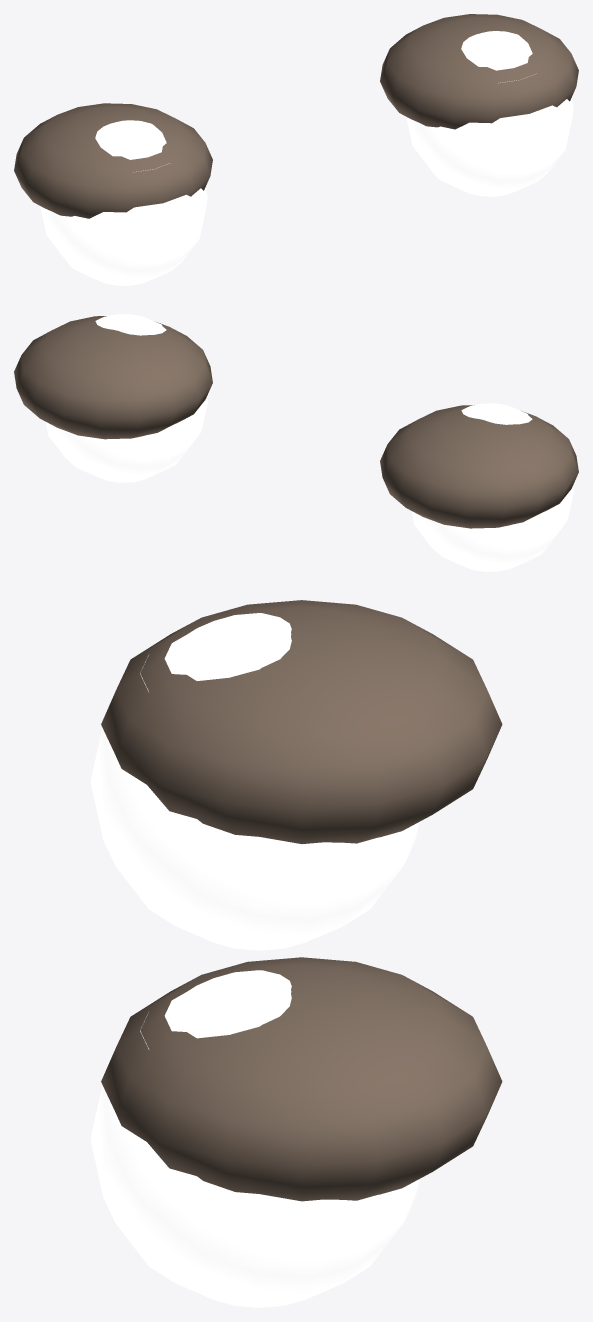
File: old-eyes.glb
3 views of the same model, one above another, from view 1: azimuth 30°, elevation 25°; view 2: azimuth 150°, elevation 25°; view 3: azimuth 270°, elevation 25° (orthographic). The views are drawn at different scales.
Visible parts, largest first — view 1: lid_-1, lid_1, eye_-1, eye_1; view 2: lid_-1, lid_1, eye_-1, eye_1; view 3: lid_-1, lid_1, eye_1, eye_-1.
Part boxes in pixels (left/top/right/bottom): lid_-1: left=14, top=103, right=212, bottom=218; lid_1: left=380, top=14, right=578, bottom=129; eye_-1: left=40, top=120, right=207, bottom=285; eye_1: left=406, top=31, right=573, bottom=196; lid_-1: left=380, top=405, right=578, bottom=528; lid_1: left=14, top=316, right=212, bottom=439; eye_-1: left=411, top=403, right=573, bottom=571; eye_1: left=45, top=314, right=207, bottom=482; lid_-1: left=101, top=600, right=502, bottom=843; lid_1: left=101, top=957, right=502, bottom=1201; eye_1: left=90, top=970, right=419, bottom=1307; eye_-1: left=90, top=613, right=419, bottom=950.
Size of the model in its own units: 0.118 by 0.032 by 0.039.
